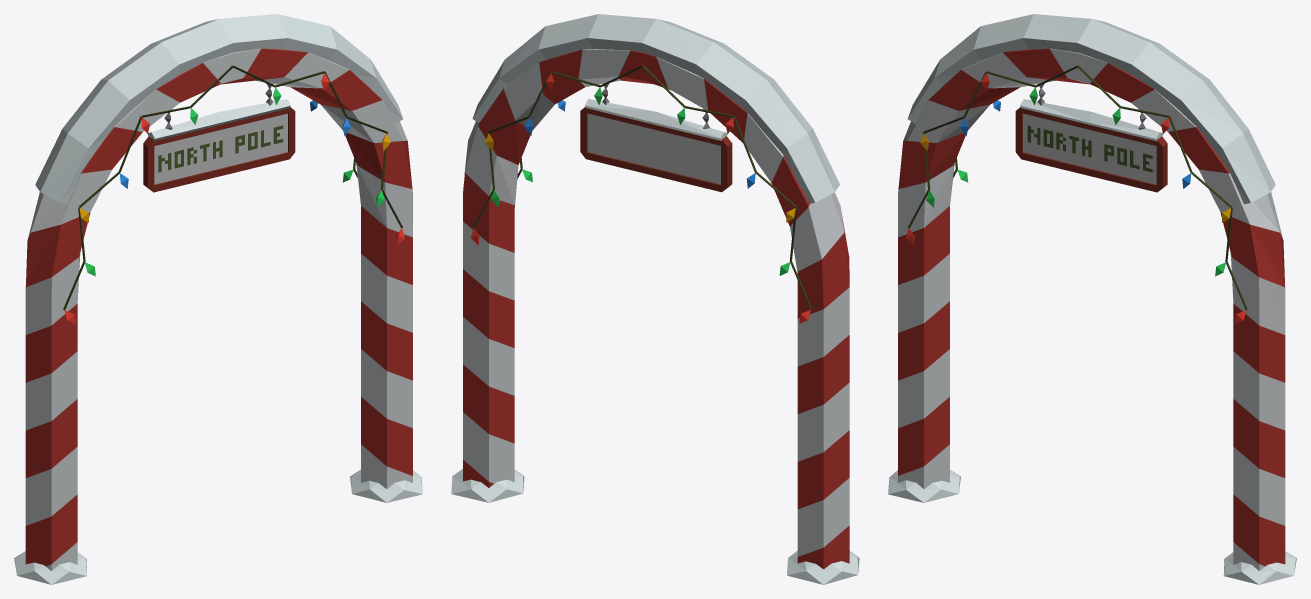
The model's file is candy-cane-arch-c17ce3.glb.
3 views of the same model, side by side, from view 1: azimuth 30°, elevation 25°; view 2: azimuth 150°, elevation 25°; view 3: azimuth 330°, elevation 25° (orthographic).
Parts seen in each view (by area): view 1: arch-body, header-sign-mesh; view 2: arch-body, header-sign-mesh; view 3: arch-body, header-sign-mesh.
Boxes of the visible parts, x1,y1,x2,y2 form: arch-body: (14,14,422,584); header-sign-mesh: (143,83,295,192); arch-body: (451,14,859,584); header-sign-mesh: (580,83,732,192); arch-body: (888,14,1296,584); header-sign-mesh: (1015,83,1167,192).
Size of the model in its own units: 5.77 by 6.92 by 0.9086.
